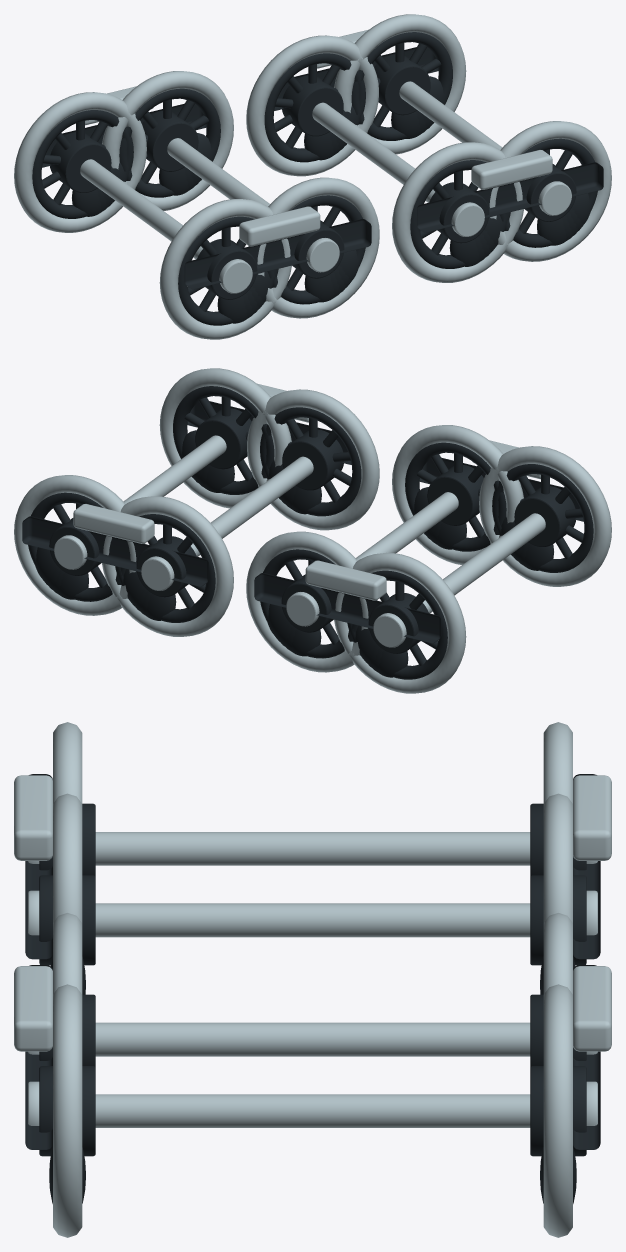
The model's file is tender-bogies.glb.
The picture shows the model from 3 angles, top to bottom: view 1: azimuth 30°, elevation 25°; view 2: azimuth 150°, elevation 25°; view 3: azimuth 270°, elevation 25°; orthographic projection. The views are drawn at different scales.
Visible parts, largest first — view 1: Tender 3 1 steel tyre, Tender 1 1 steel tyre, Tender 3 -1 steel tyre, Tender 1 -1 steel tyre, Tender 4 1 steel tyre, Tender 2 1 steel tyre, Tender 2 -1 steel tyre, Tender 4 -1 steel tyre, Bogie frame, Bogie frame.001, Tender axle, Tender axle.002 (+34 smaller); view 2: Tender 3 -1 steel tyre, Tender 1 -1 steel tyre, Tender 1 1 steel tyre, Tender 3 1 steel tyre, Tender 2 -1 steel tyre, Tender 4 -1 steel tyre, Tender 2 1 steel tyre, Tender 4 1 steel tyre, Bogie frame.002, Bogie frame.003, Tender axle, Tender axle.002 (+34 smaller); view 3: Tender axle.001, Tender axle.002, Tender axle, Tender axle.003, Tender 4 -1 steel tyre, Tender 4 1 steel tyre, Tender 2 -1 steel tyre, Tender 2 1 steel tyre, Bogie spring.001, Bogie spring.003, Bogie spring, Bogie spring.002 (+16 smaller).
Boxes of the visible parts, x1,y1,x2,y2 form: Tender 3 1 steel tyre: [246, 35, 378, 176]; Tender 1 1 steel tyre: [14, 92, 146, 232]; Tender 3 -1 steel tyre: [392, 142, 523, 282]; Tender 1 -1 steel tyre: [159, 199, 291, 339]; Tender 4 1 steel tyre: [334, 14, 466, 154]; Tender 2 1 steel tyre: [102, 71, 233, 210]; Tender 2 -1 steel tyre: [248, 177, 379, 318]; Tender 4 -1 steel tyre: [480, 121, 611, 261]; Bogie frame: [184, 219, 371, 289]; Bogie frame.001: [417, 162, 603, 232]; Tender axle: [80, 159, 202, 259]; Tender axle.002: [312, 102, 434, 202]; Tender 3 -1 steel tyre: [247, 389, 379, 530]; Tender 1 -1 steel tyre: [479, 446, 611, 586]; Tender 1 1 steel tyre: [334, 553, 466, 693]; Tender 3 1 steel tyre: [102, 496, 233, 636]; Tender 2 -1 steel tyre: [392, 425, 523, 564]; Tender 4 -1 steel tyre: [159, 368, 291, 508]; Tender 2 1 steel tyre: [246, 531, 377, 672]; Tender 4 1 steel tyre: [14, 475, 145, 615]; Bogie frame.002: [254, 573, 441, 643]; Bogie frame.003: [22, 516, 208, 586]; Tender axle: [423, 513, 545, 613]; Tender axle.002: [191, 456, 313, 556]; Tender axle.001: [95, 903, 530, 937]; Tender axle.002: [95, 1022, 530, 1056]; Tender axle: [95, 832, 530, 865]; Tender axle.003: [95, 1094, 530, 1127]; Tender 4 -1 steel tyre: [53, 984, 82, 1237]; Tender 4 1 steel tyre: [543, 984, 572, 1237]; Tender 2 -1 steel tyre: [53, 793, 82, 922]; Tender 2 1 steel tyre: [543, 793, 572, 922]; Bogie spring.001: [14, 966, 52, 1051]; Bogie spring.003: [573, 966, 611, 1051]; Bogie spring: [14, 775, 52, 860]; Bogie spring.002: [573, 775, 611, 860].
Size of the model in its own units: 3.1 by 0.9 by 2.12.
